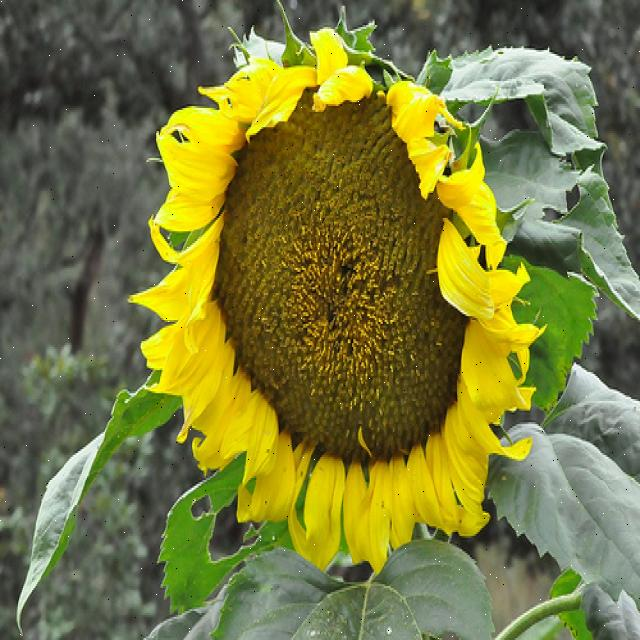Bloomed: (127, 27, 545, 573)
